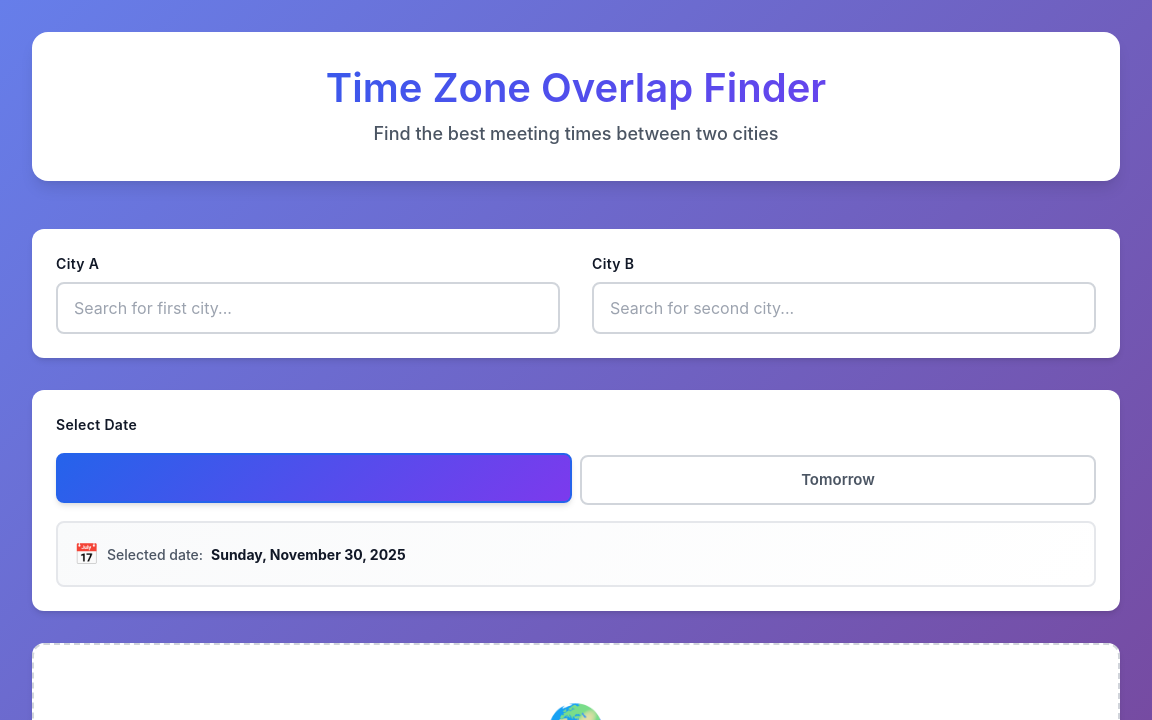
Test case: App Integration Tests › should handle invalid city input gracefully
Type an invalid city name
Type "InvalidCityXYZ123" into the field labelled "City A".
click(308, 308); type("InvalidCityXYZ123")  # box 56,282 -> 560,334
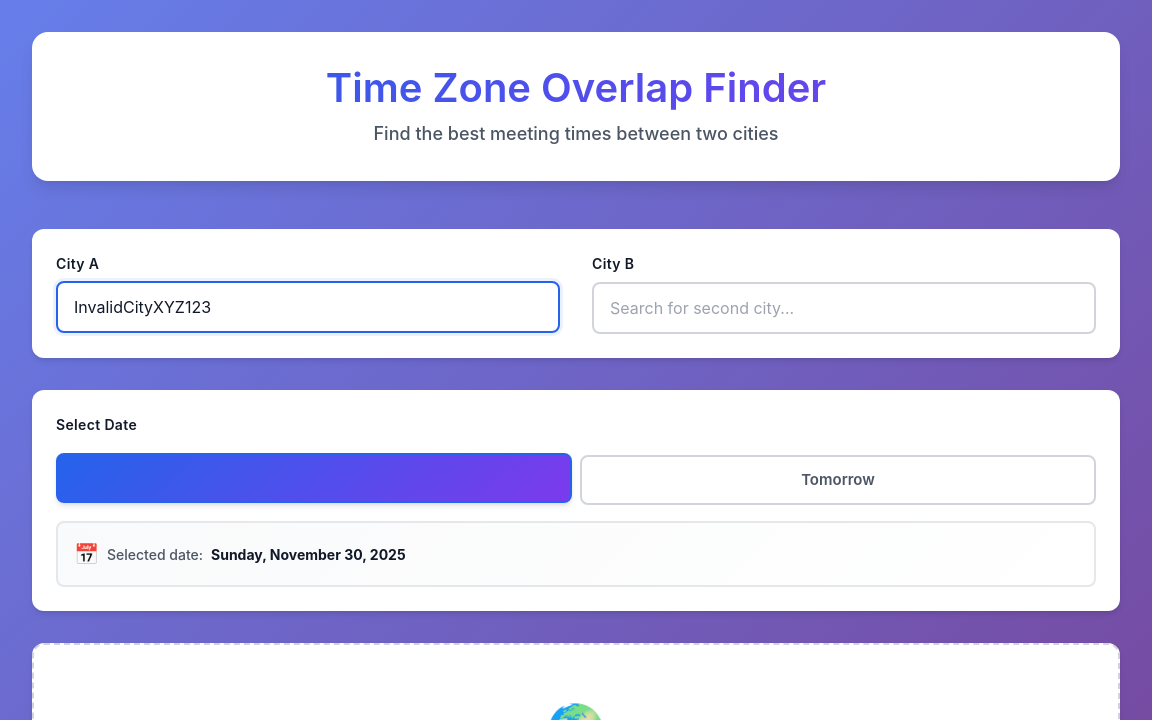
Blur the input to trigger validation
Press Tab
(page scrolled)
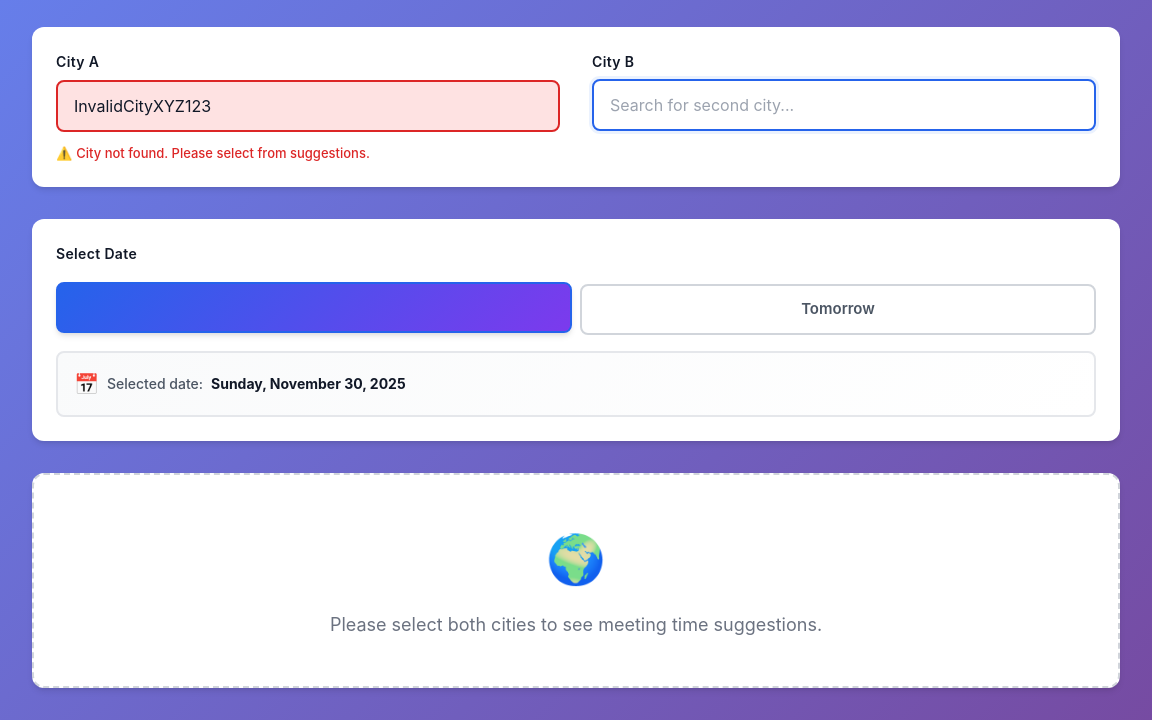
Expected: the text "Please select both cities to see meeting time suggestions." is shown, 32,473 -> 1120,688
Expected: the text "City not found. Please select from suggestions." is shown, 76,145 -> 370,161
